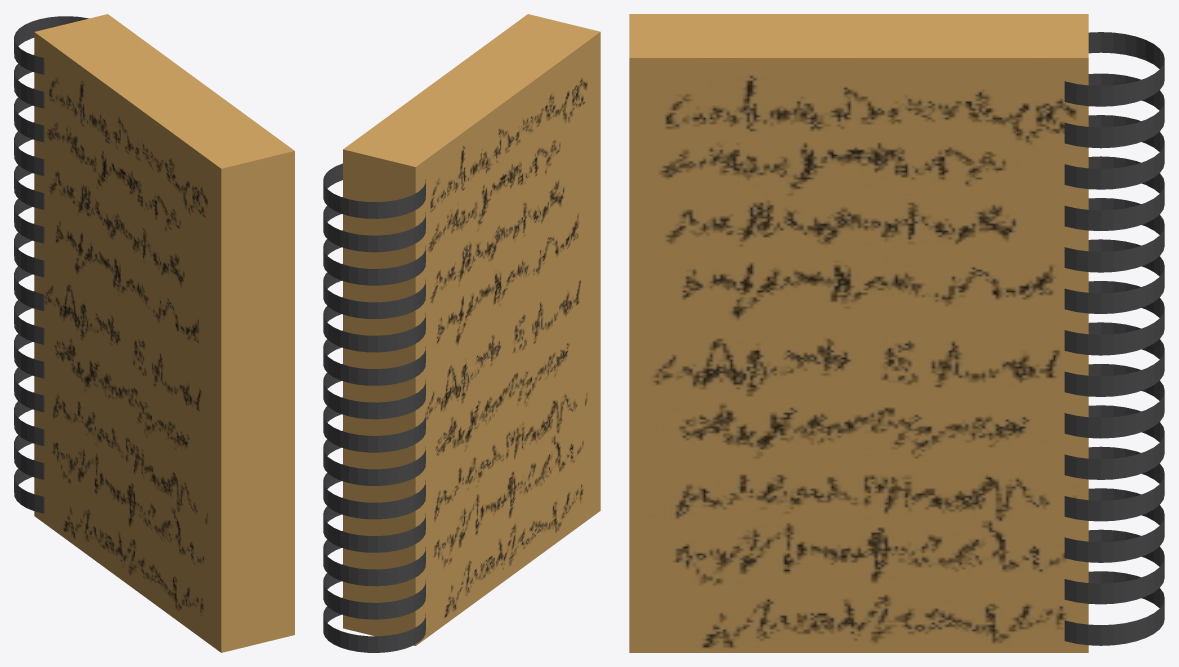
Rendered from Notepad Model.fbx.
The picture shows the model from 3 angles, left to right: view 1: azimuth 30°, elevation 25°; view 2: azimuth 150°, elevation 25°; view 3: azimuth 270°, elevation 25°; orthographic projection. The views are drawn at different scales.
Parts seen in each view (by area): view 1: Cube, Cube.001; view 2: Cube, Cube.001; view 3: Cube, Cube.001.
Part boxes in pixels (box(x1,y1,x2,y2)): Cube: box(34, 14, 294, 652); Cube.001: box(14, 16, 88, 513); Cube: box(343, 14, 600, 645); Cube.001: box(323, 163, 425, 652); Cube: box(629, 14, 1088, 652); Cube.001: box(1064, 32, 1164, 645).
Bounding box in the file's own units: 3.89 × 20 × 16.32.
2 materials, 1 textured.
